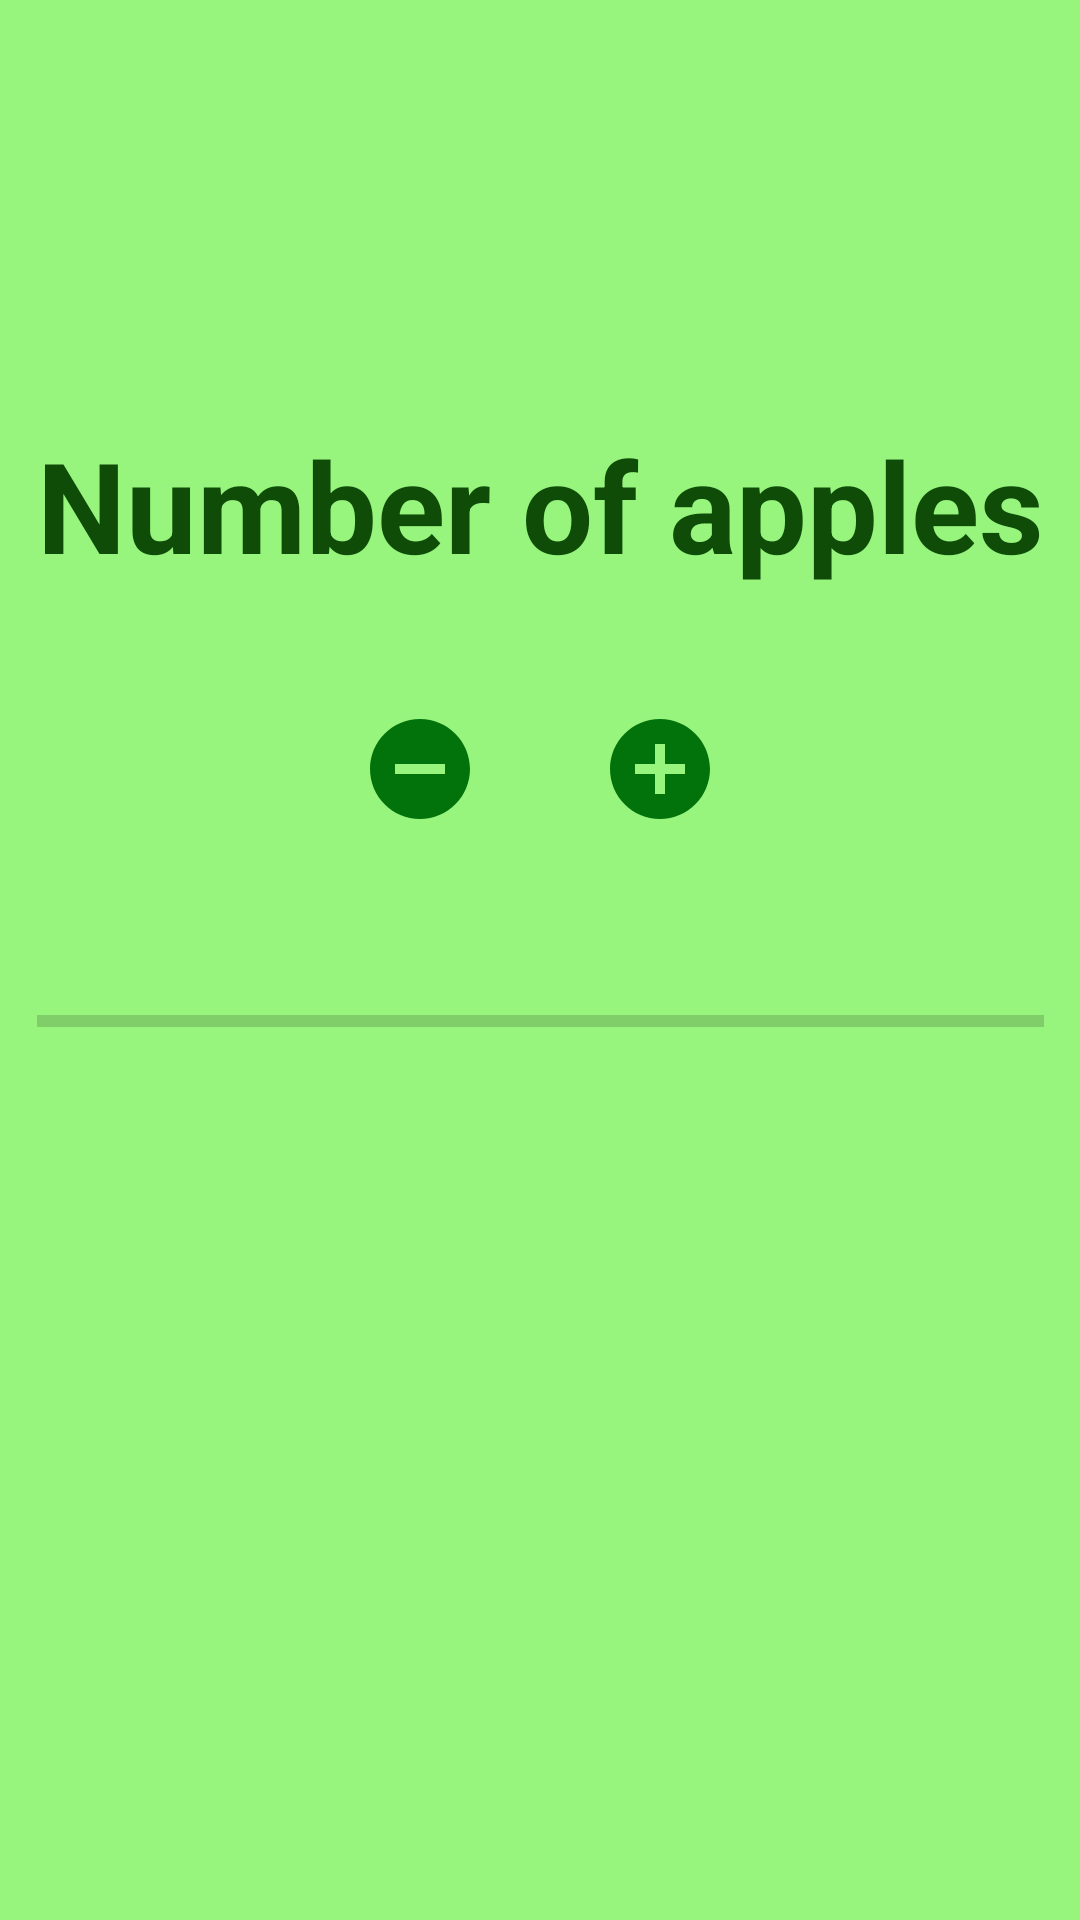

Where icons sit on this 1080×1920 app screen, as [left=x1, top=y1, right=x2, bottom=y2]:
add circle: [left=610, top=719, right=710, bottom=819]
remove circle: [left=370, top=719, right=470, bottom=819]
